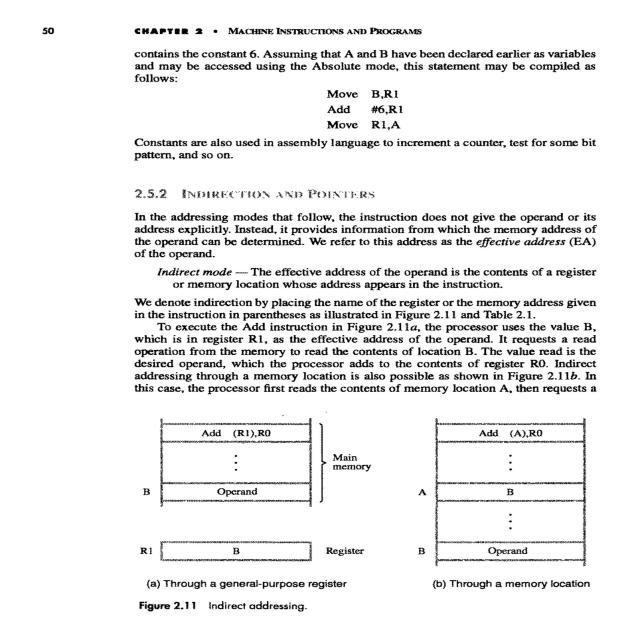diagram: (110, 403, 620, 632)
